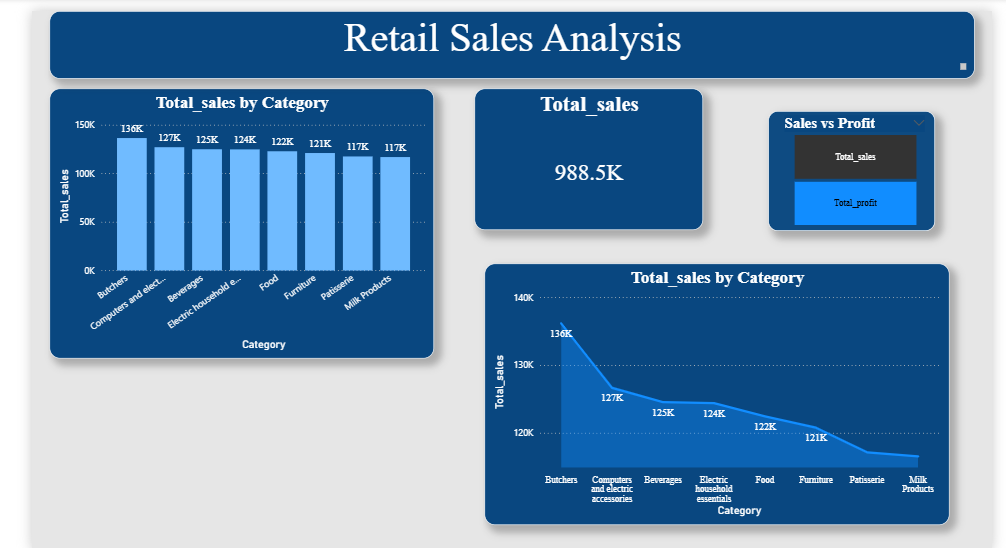

What the dashboard file says about the page in this screenshot:
{"tool":"powerbi","page":{"name":"Parameters","canvas":[1280,720],"ordinal":2},"visuals":[{"type":"clusteredColumnChart","fields":{"Y":["retail_store_sales.profit"],"Category":["retail_store_sales.Category"]},"box":[23.8,103.8,512.5,360],"z":0},{"type":"slicer","fields":{"Values":["sales vs profit.sales vs profit"]},"box":[981.2,132.5,222.5,160],"z":1000},{"type":"textbox","title":"Retail Sales Analysis","box":[23.3,0,1233.3,90],"z":2000},{"type":"card","fields":{"Values":["retail_store_sales.profit"]},"box":[590,103.8,305,188.8],"z":3000},{"type":"stackedAreaChart","fields":{"Y":["retail_store_sales.profit"],"Category":["retail_store_sales.Category"]},"box":[625.7,340,620,348.6],"z":4000}]}

Visuals, with their boxes in screenshot pixels (x1, y1, x2, y2):
clusteredColumnChart - retail_store_sales.profit x retail_store_sales.Category: (47,86,431,356)
slicer - sales vs profit.sales vs profit: (765,107,932,227)
"Retail Sales Analysis" textbox: (46,8,971,75)
card - retail_store_sales.profit: (471,86,700,227)
stackedAreaChart - retail_store_sales.profit x retail_store_sales.Category: (498,263,963,524)
